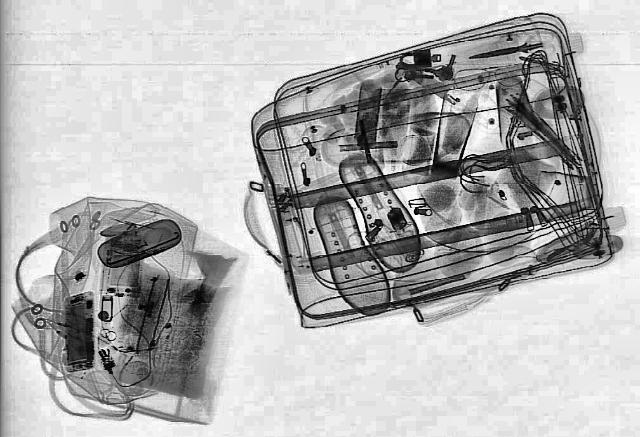Knife: (466, 38, 546, 61)
